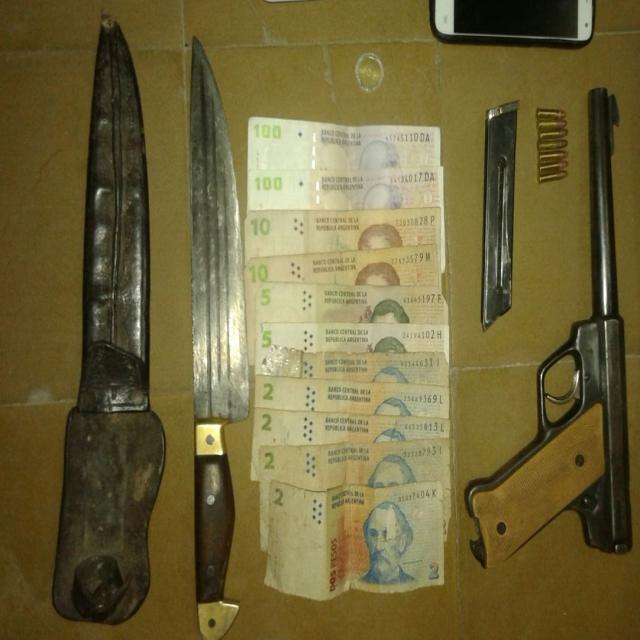knife: (177, 32, 276, 640)
